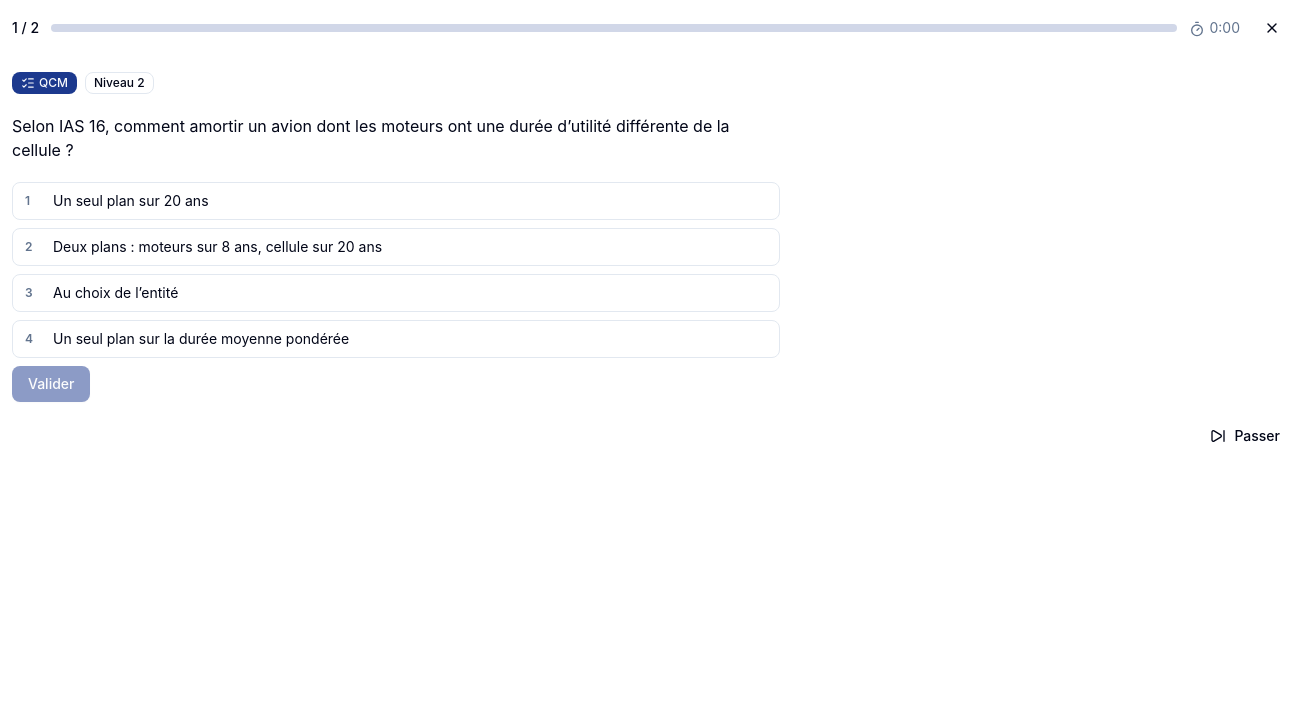
Test: SessionPage › joue une session par thème de bout en bout et enregistre tentatives et session
This screenshot has width=1304, height=720.
Expected: the text "1 / 2" is shown, [12,18,39,38]
Click the radio button labelled "2 Deux plans : moteurs sur 8 ans, cellule sur 20 ans".
click(218, 246)  # box [12,228,780,266]
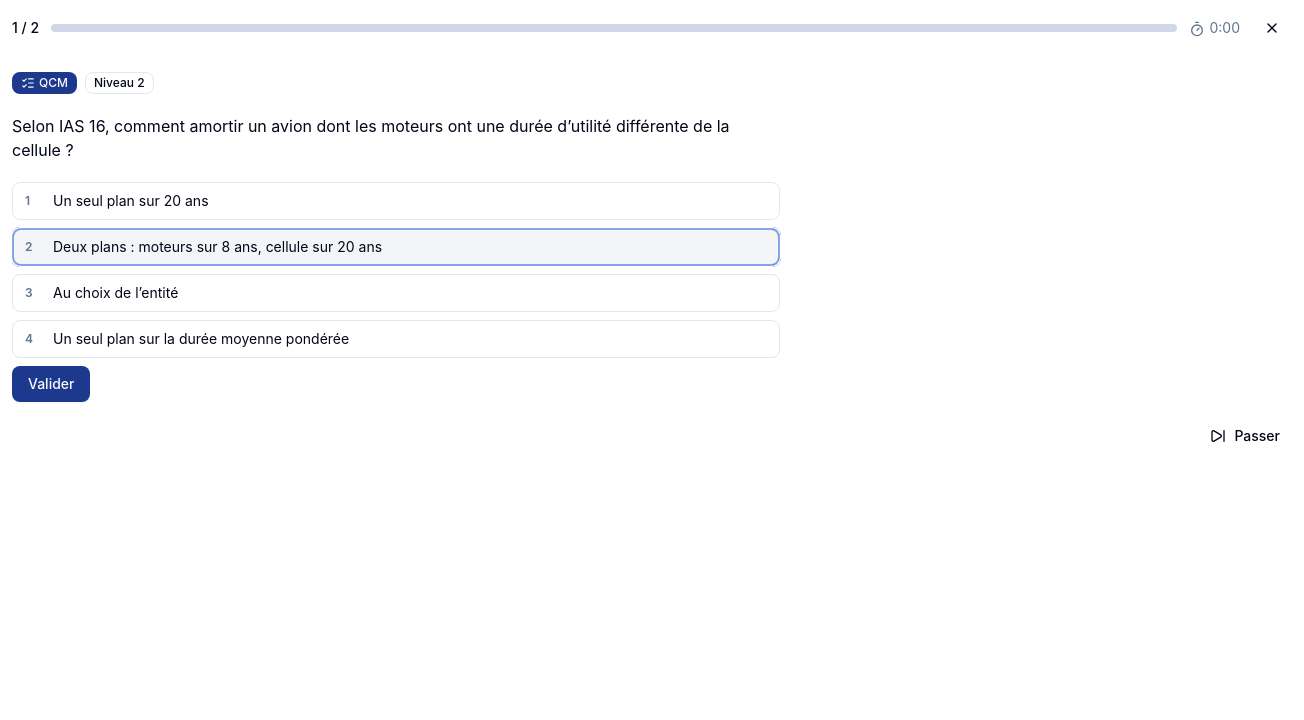
Click the button "Valider".
click(51, 384)  # box [12,366,90,402]
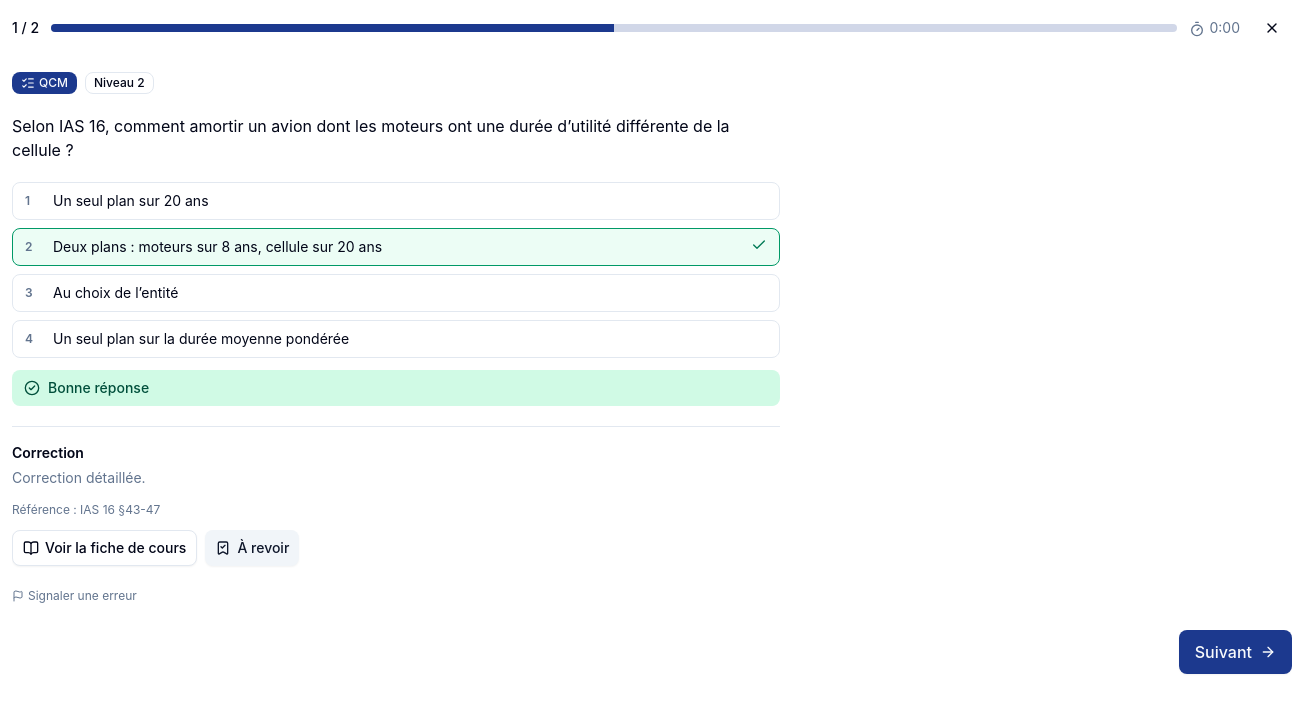
Click the button "Suivant".
click(1235, 652)  # box [1179,630,1292,674]
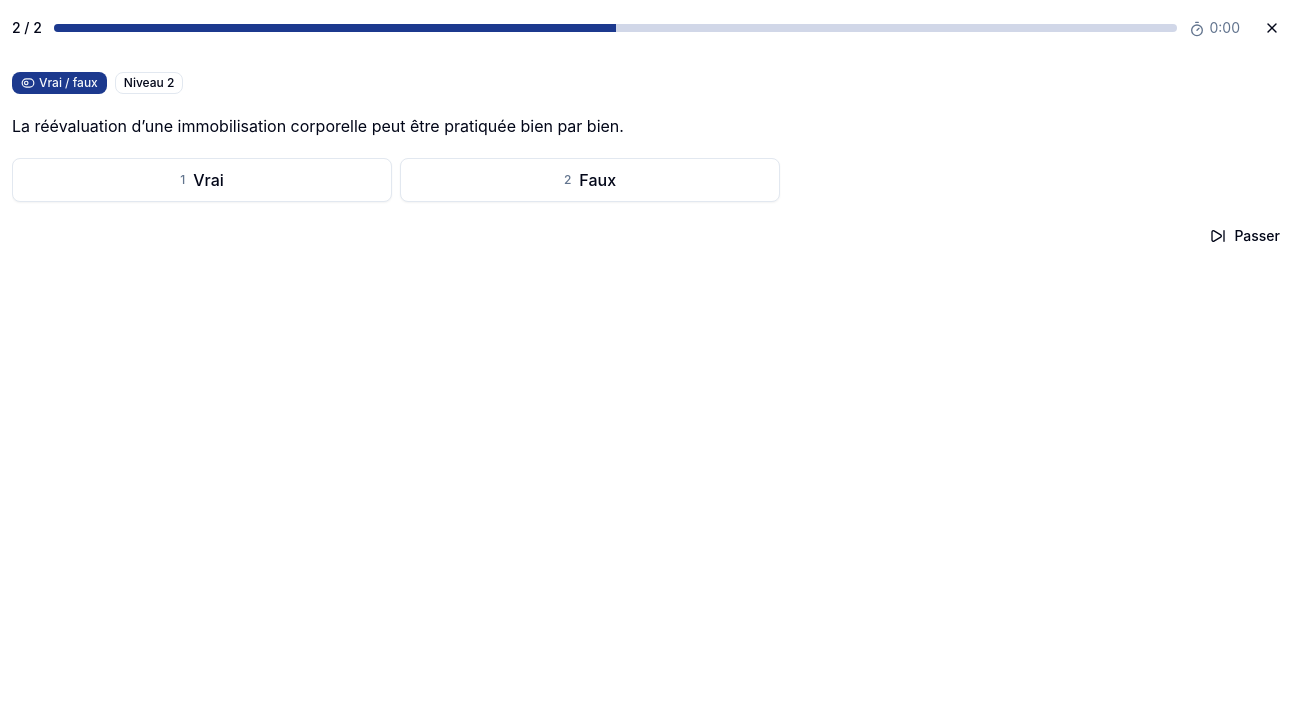
Click the button "2 Faux".
click(590, 180)  # box [400,158,780,202]
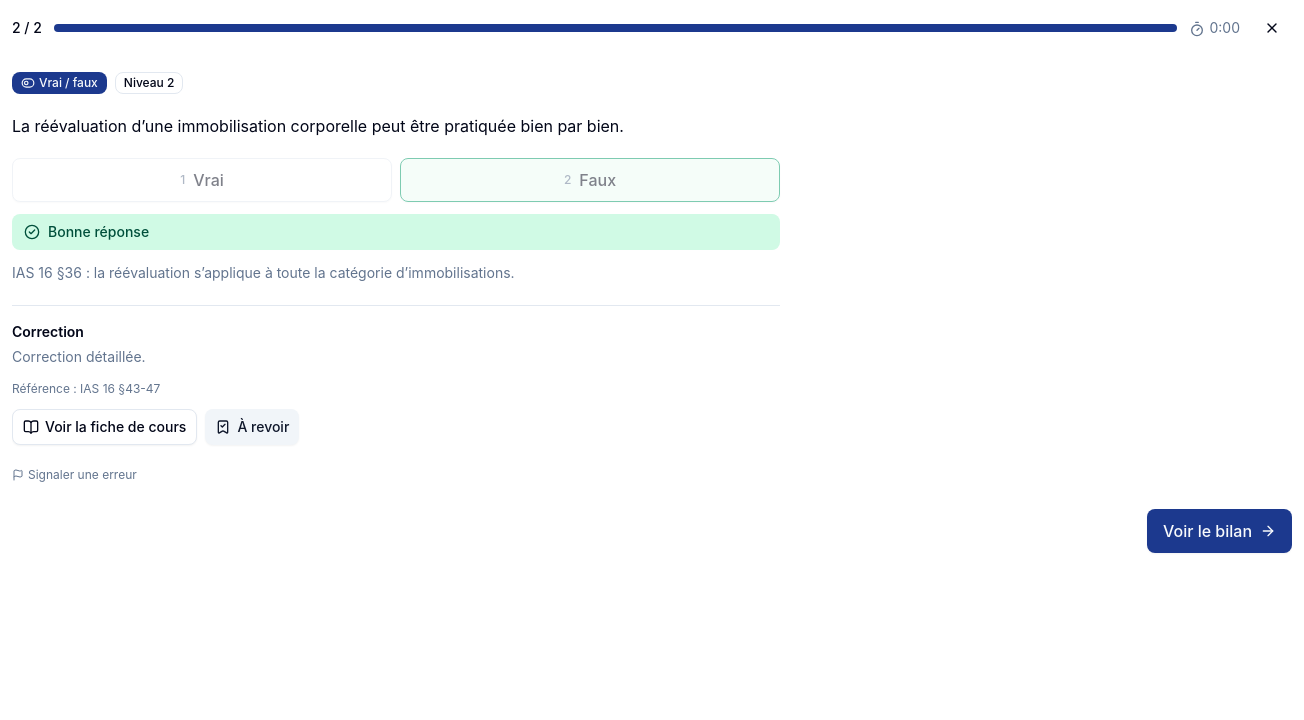
Click the button "Voir le bilan".
click(1220, 530)  # box [1147,508,1292,552]
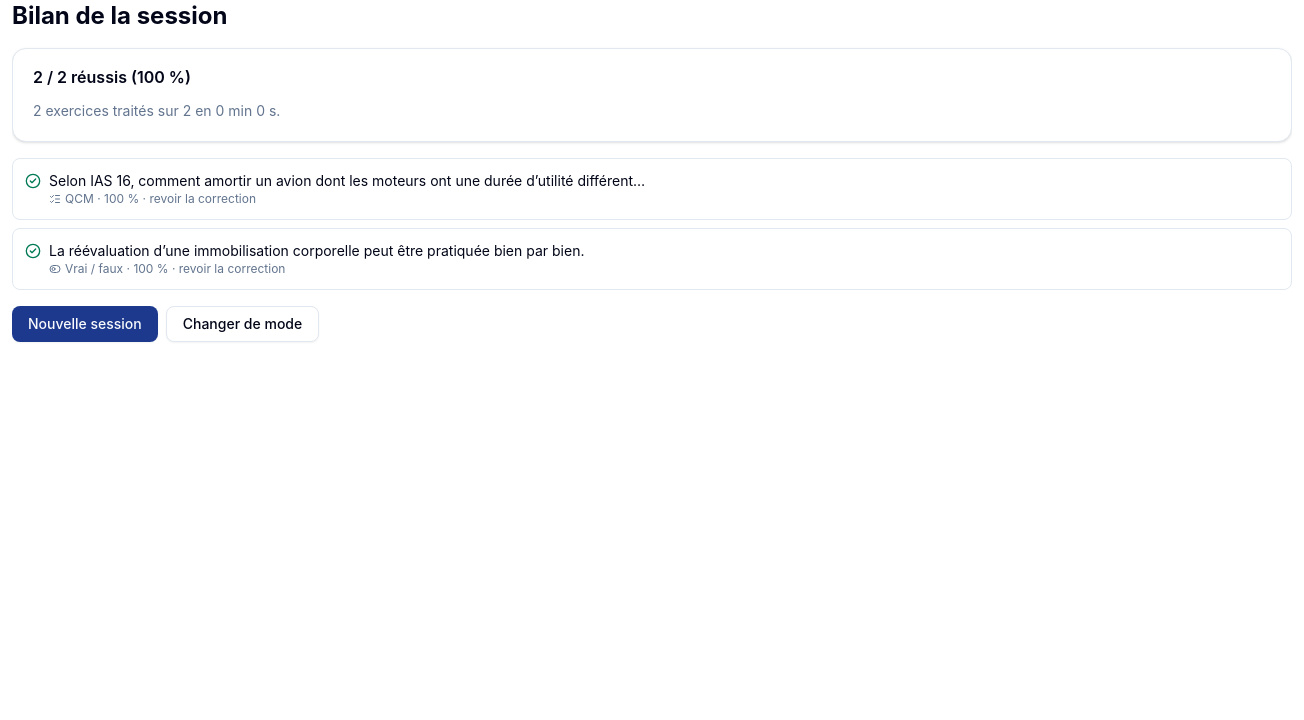
Expected: the heading "Bilan de la session" is shown, [12,1,228,30]
Expected: the text "2 / 2 réussis (100 %)" is shown, [33,67,191,87]
